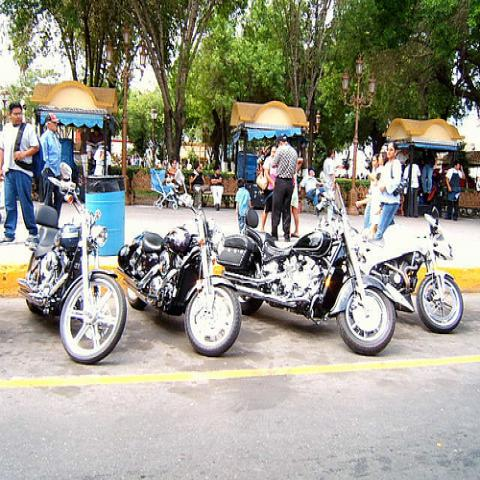motorcycle: (221, 178, 414, 354), (117, 169, 242, 357), (17, 164, 127, 367), (369, 209, 466, 334)
